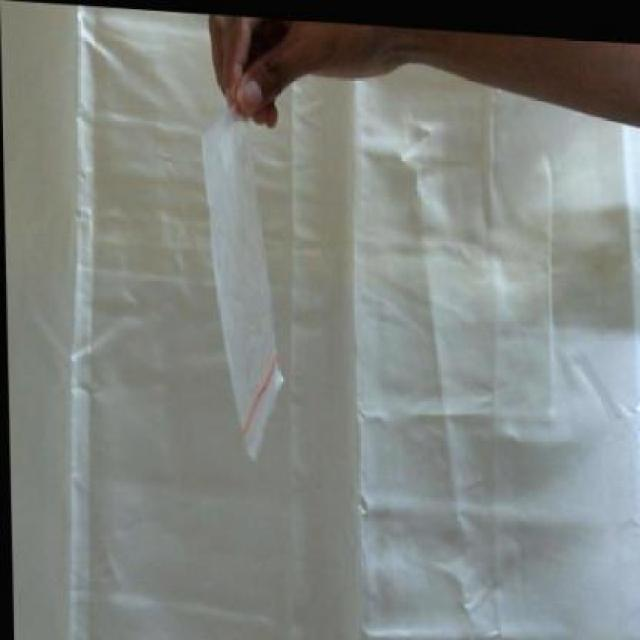Plastic: (198, 96, 289, 467)
